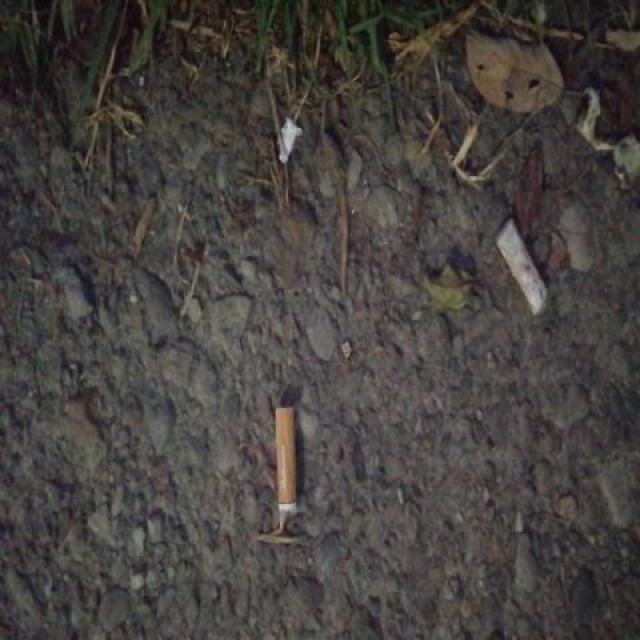non-organic waste: (489, 212, 551, 320), (270, 401, 302, 534)
